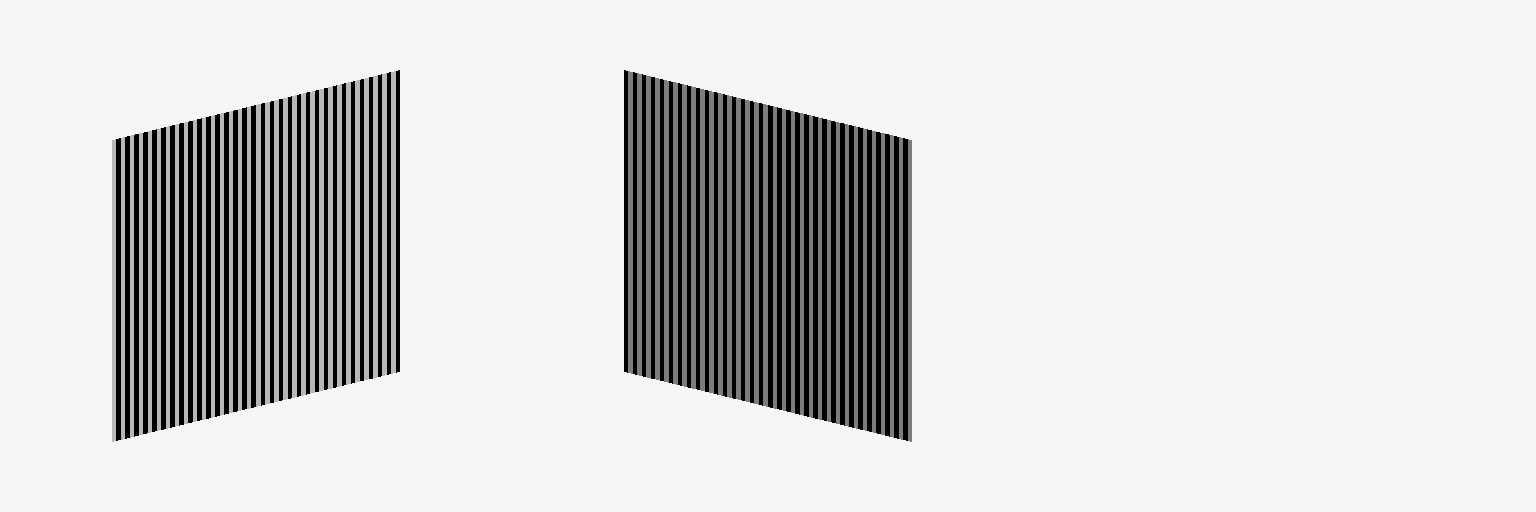
3 renders of one model, left to right at view 1: azimuth 30°, elevation 25°; view 2: azimuth 150°, elevation 25°; view 3: azimuth 270°, elevation 25°, orthographic.
Parts seen in each view (by area): view 1: BrickWall; view 2: BrickWall; view 3: none.
Part boxes in pixels (left/top/right/bottom): BrickWall: left=112, top=70, right=399, bottom=441; BrickWall: left=624, top=70, right=911, bottom=441.
Bounding box in the file's own units: 2 × 2 × 0.
1 materials, 1 textured.